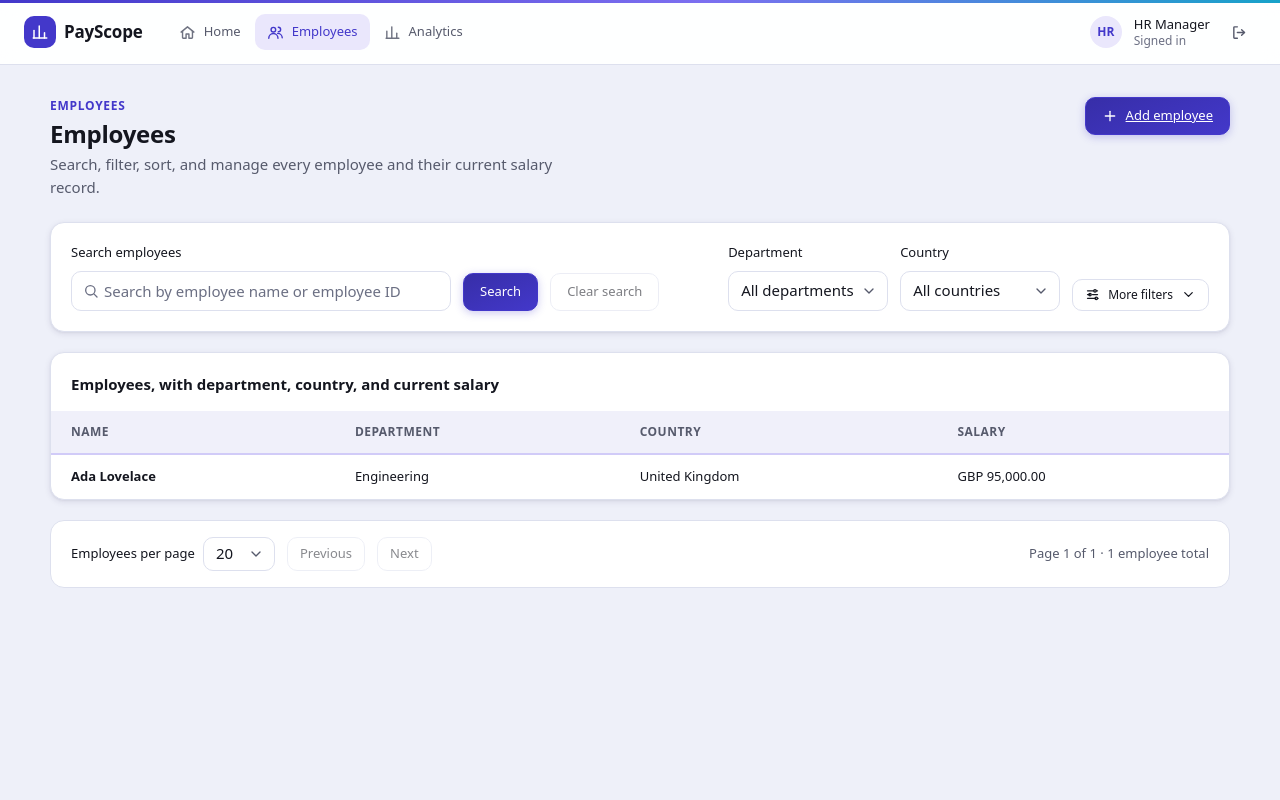
Scenario: /employees/:employeeId route › navigates from the employee listing to that employee's details page, and back again
Click the link "Ada Lovelace" at (113, 476), box [71,467,156,485]
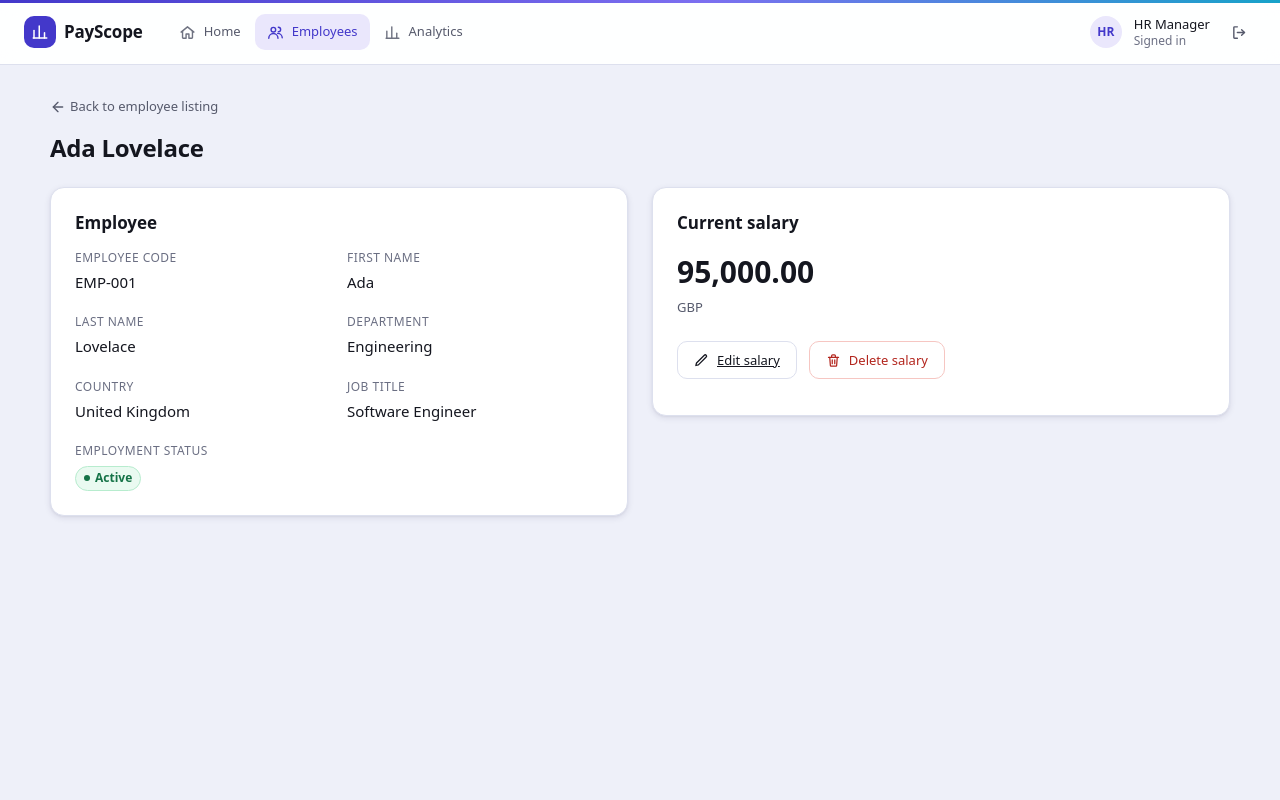
Expected: the heading "Ada Lovelace" is shown, [50,132,204,162]
Result: the text "EMP-001" is shown at [75,272,137,292]
Click the link "Back to employee listing" at (134, 107), box [50,97,218,116]
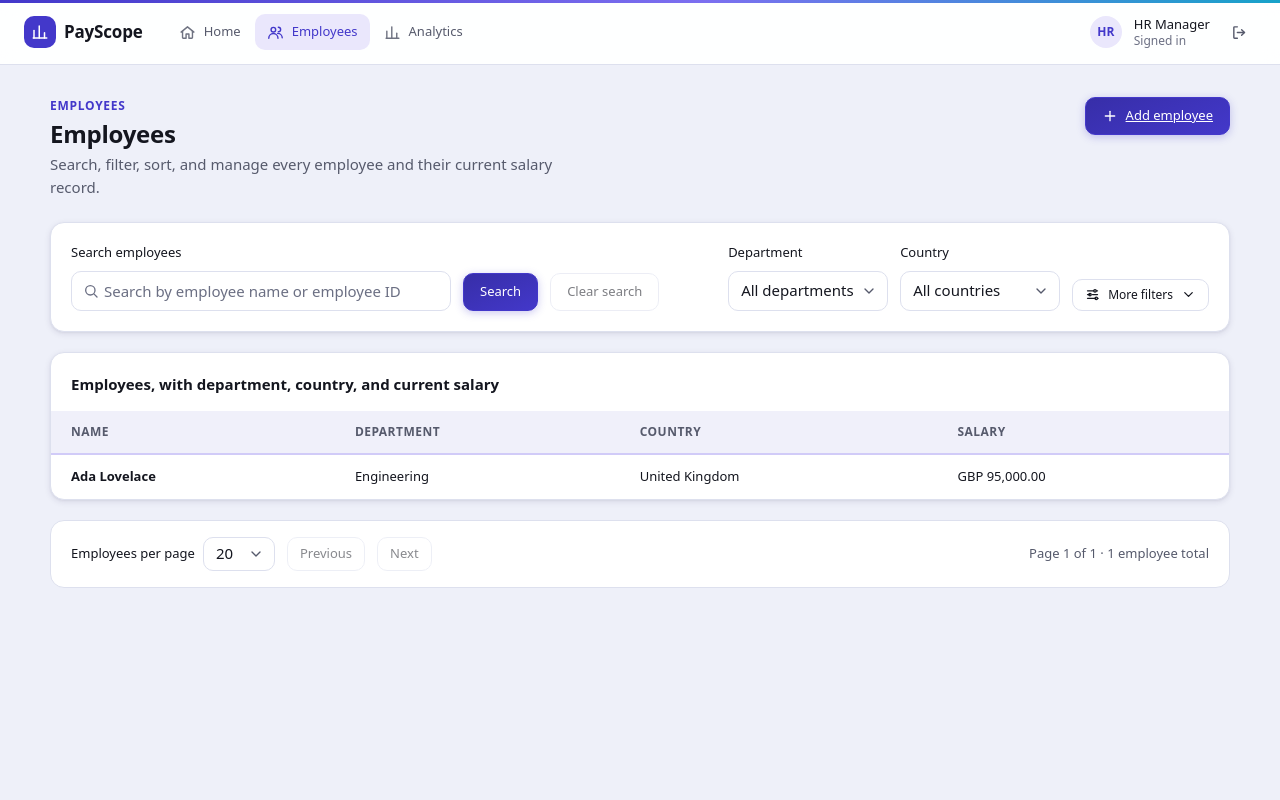
Result: the heading "Employees" is shown at [50,117,176,150]
